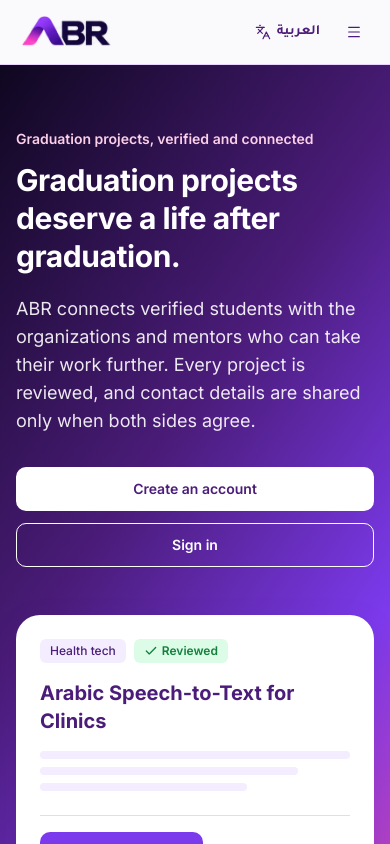
Test case: MobileMenu › opens and shows the section links and account actions
Click the button named "Menu".
click(354, 32)  # box [334,12,374,52]
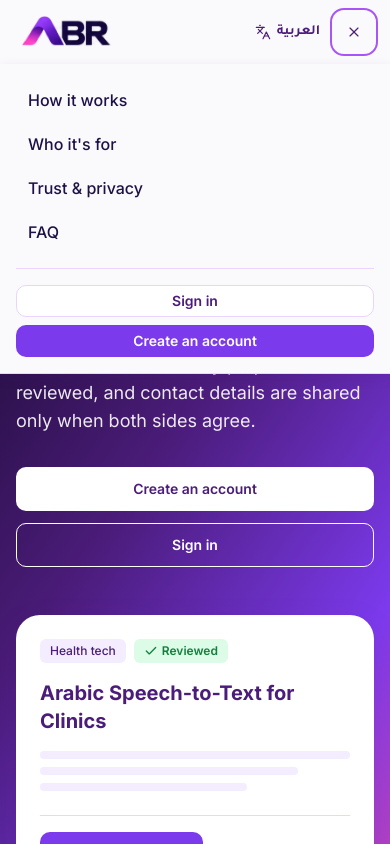
Now the button named "Menu" is expanded, box [334,12,374,52]
Now the link "How it works" is shown, box [28,90,127,110]
Now the link "Who it's for" is shown, box [28,134,116,154]
